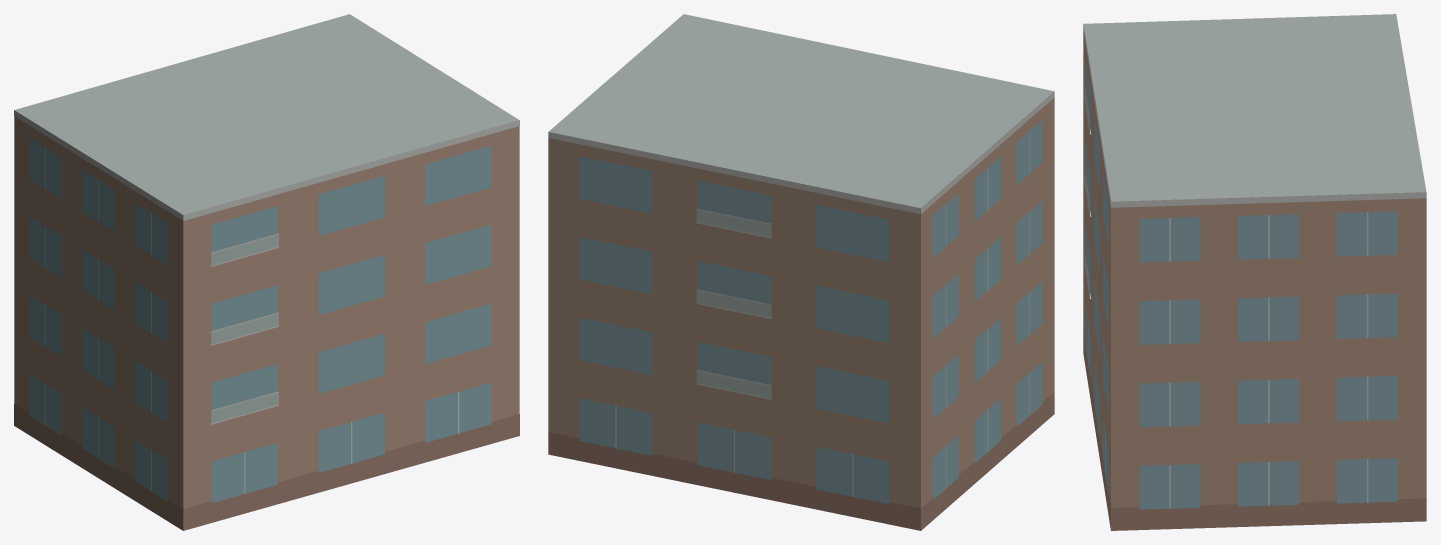
Rendered from survey-upis-32740230.glb.
The picture shows the model from 3 angles, left to right: view 1: azimuth 30°, elevation 25°; view 2: azimuth 150°, elevation 25°; view 3: azimuth 270°, elevation 25°; orthographic projection. The views are drawn at different scales.
Parts seen in each view (by area): view 1: survey-upis-32740230.tmp; view 2: survey-upis-32740230.tmp; view 3: survey-upis-32740230.tmp.
Part boxes in pixels (<box>): survey-upis-32740230.tmp: <box>14,14,519,530</box>; survey-upis-32740230.tmp: <box>548,14,1054,530</box>; survey-upis-32740230.tmp: <box>1083,14,1426,530</box>.
Size of the model in its own units: 16.02 by 13.1 by 12.39.
